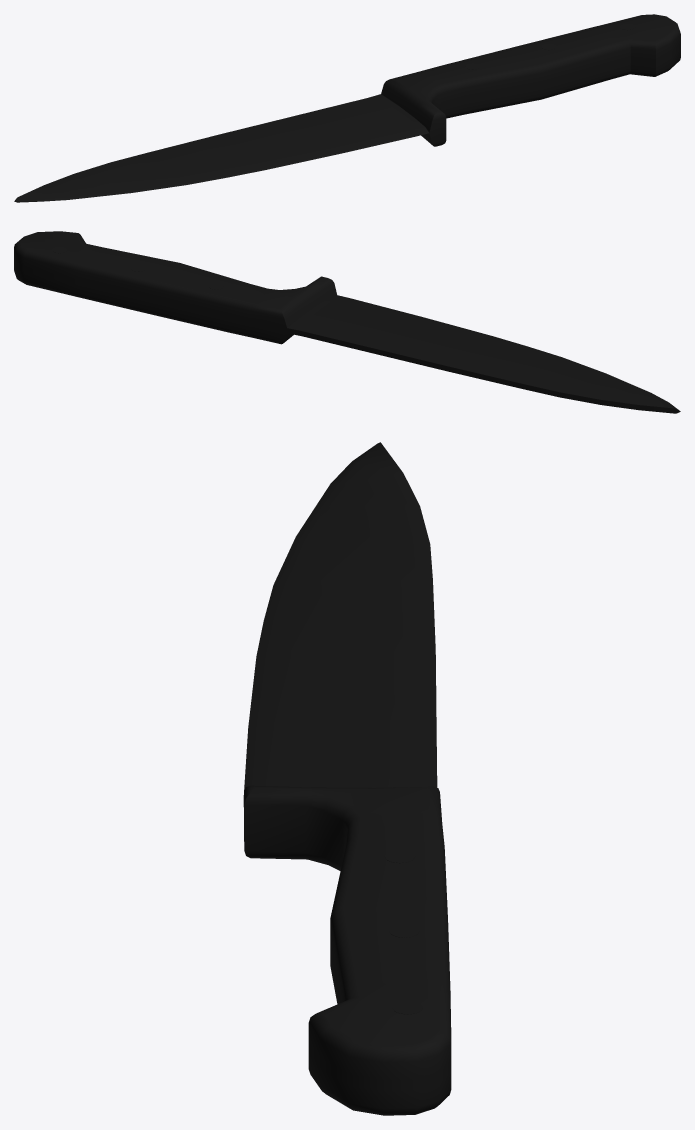
The model's file is Kitchen_Knife_01.fbx.
3 renders of one model, top to bottom at view 1: azimuth 30°, elevation 25°; view 2: azimuth 150°, elevation 25°; view 3: azimuth 270°, elevation 25°, orthographic. The views are drawn at different scales.
Parts seen in each view (by area): view 1: Couteau; view 2: Couteau; view 3: Couteau.
Boxes of the visible parts, <box> form: Couteau: <box>14,14,680,202</box>; Couteau: <box>14,231,680,413</box>; Couteau: <box>243,442,451,1115</box>.
Size of the model in its own units: 27.97 by 1.41 by 3.83.
